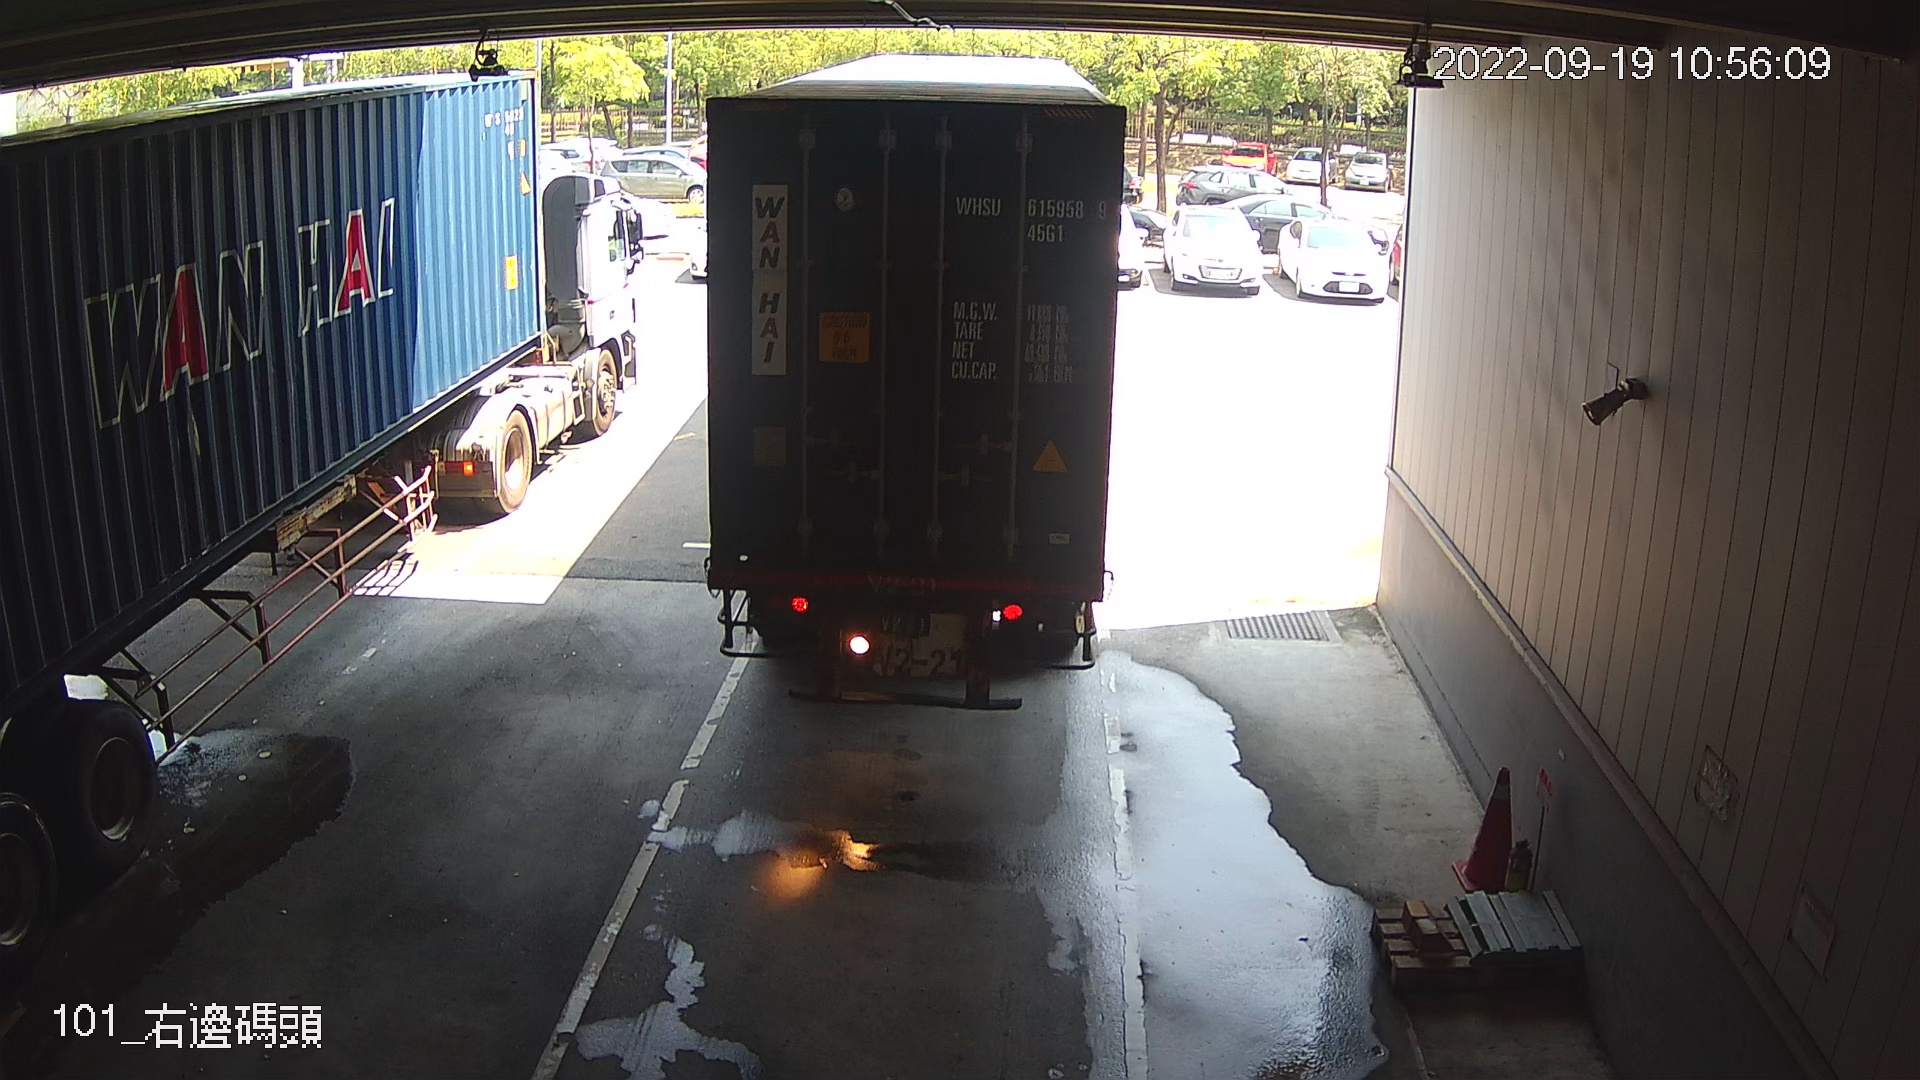container: (951, 189, 1114, 252)
